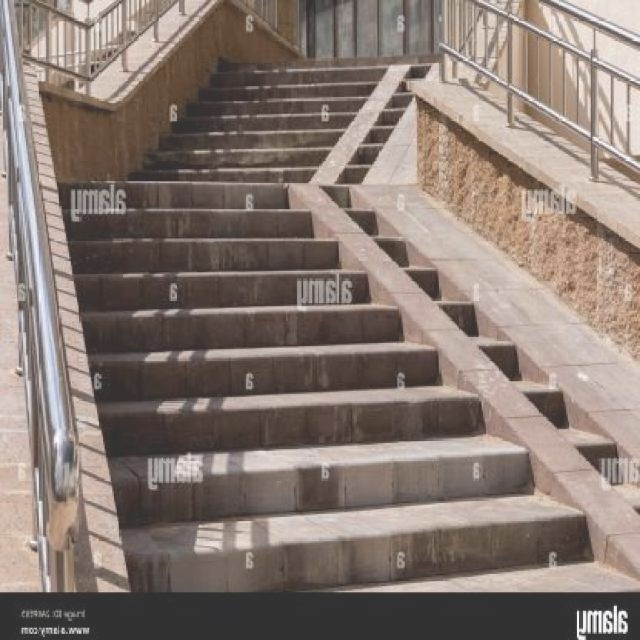stair: (22, 0, 640, 591)
